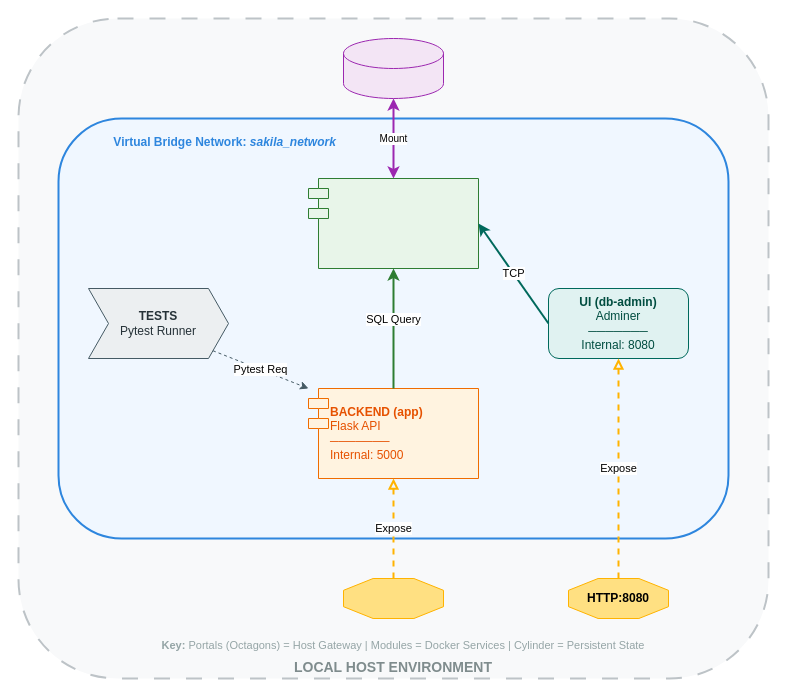
The diagram is 786 pixels wide and 696 high, and some of its shapes have lost their labels. Each missing label, with the centre of its shape:
"DATA VOLUME sakila_db_data" goes at [393,68].
"DATABASE (db) MySQL 8.0 ─────── Internal: 3306" goes at [393,223].
"HTTP:5000" goes at [393,598].
